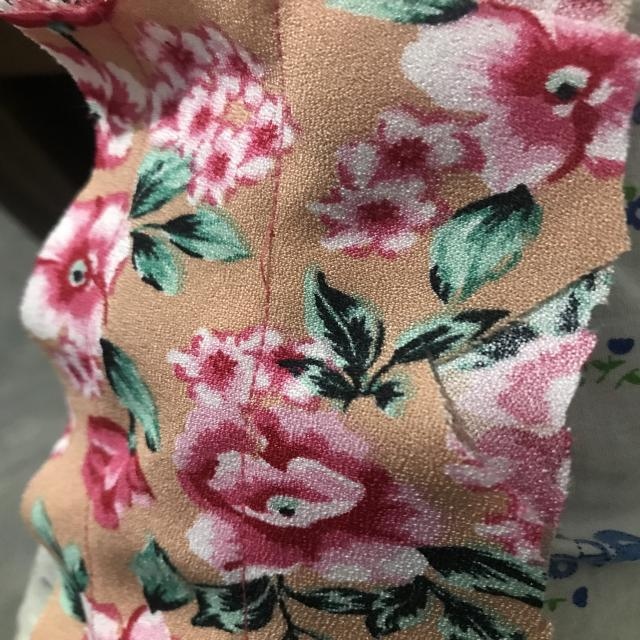skip: (232, 212, 299, 323)
